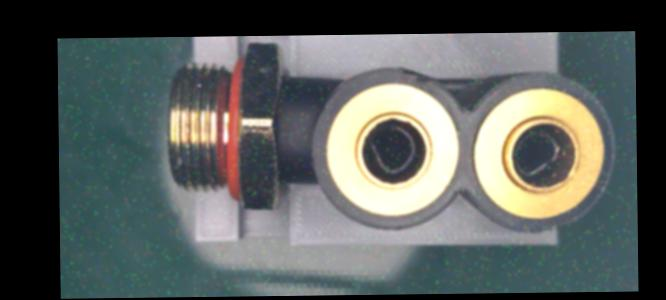off-centered: (363, 121, 422, 175), (508, 129, 564, 176)
white mark: (282, 136, 302, 154)
